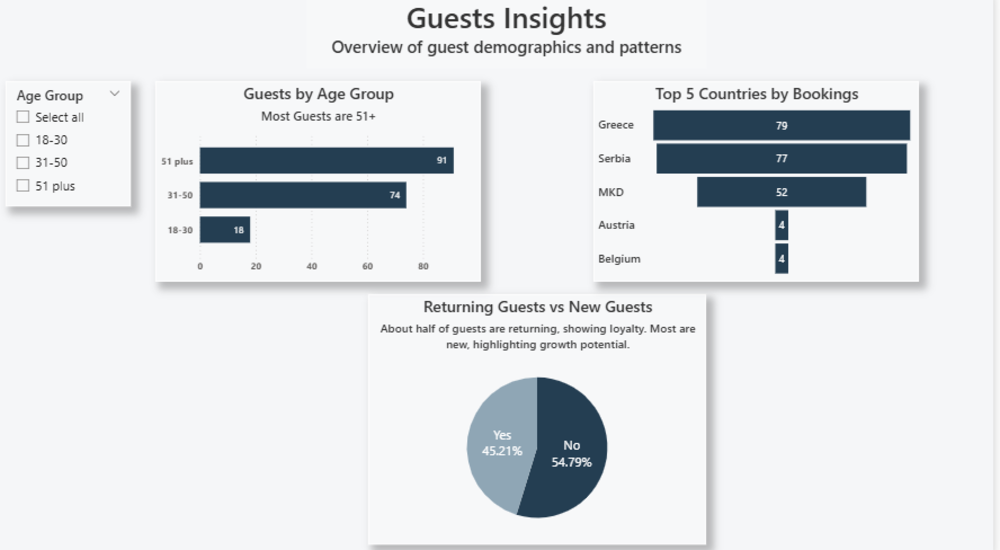

The dashboard page shown, as its layout file describes it:
{"tool":"powerbi","page":{"name":"Guests Insights","canvas":[1280,720],"ordinal":1},"visuals":[{"type":"clusteredBarChart","title":"Guests by Age Group","fields":{"Category":["Guests.Age Group"],"Y":["CountNonNull(Guests.Guest ID)"]},"box":[208,112,416,256],"z":0},{"type":"pieChart","title":"Returning Guests vs New Guests","fields":{"Category":["Guests.Returning Guest"],"Y":["CountNonNull(Guests.Guest ID)"]},"box":[480,384,432,320],"z":1000},{"type":"slicer","fields":{"Values":["Guests.Age Group"]},"box":[16,112,160,160],"z":2000},{"type":"funnel","title":"Top 5 Countries by Bookings","fields":{"Category":["Bookings.Guest Nationality"],"Y":["CountNonNull(Bookings.Booking ID)"]},"box":[768,112,416,256],"z":3000},{"type":"textbox","box":[400,0,512,96],"z":4000}]}

Visuals, with their boxes in screenshot pixels (x1, y1, x2, y2), scaled from the page's 1280x720 canvas onto the 1000x550 screenshot:
"Guests by Age Group" clusteredBarChart: <region>162, 86, 488, 281</region>
"Returning Guests vs New Guests" pieChart: <region>375, 293, 712, 538</region>
slicer - Guests.Age Group: <region>12, 86, 138, 208</region>
"Top 5 Countries by Bookings" funnel: <region>600, 86, 925, 281</region>
textbox: <region>312, 0, 712, 73</region>
